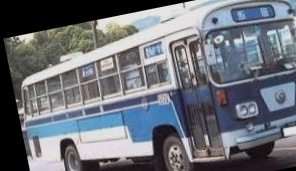bus: (13, 0, 296, 171)
